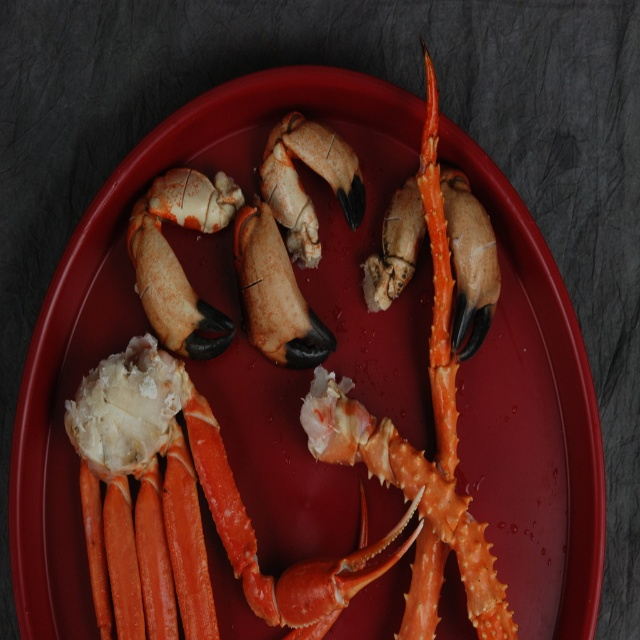Crab: (59, 37, 520, 639)
